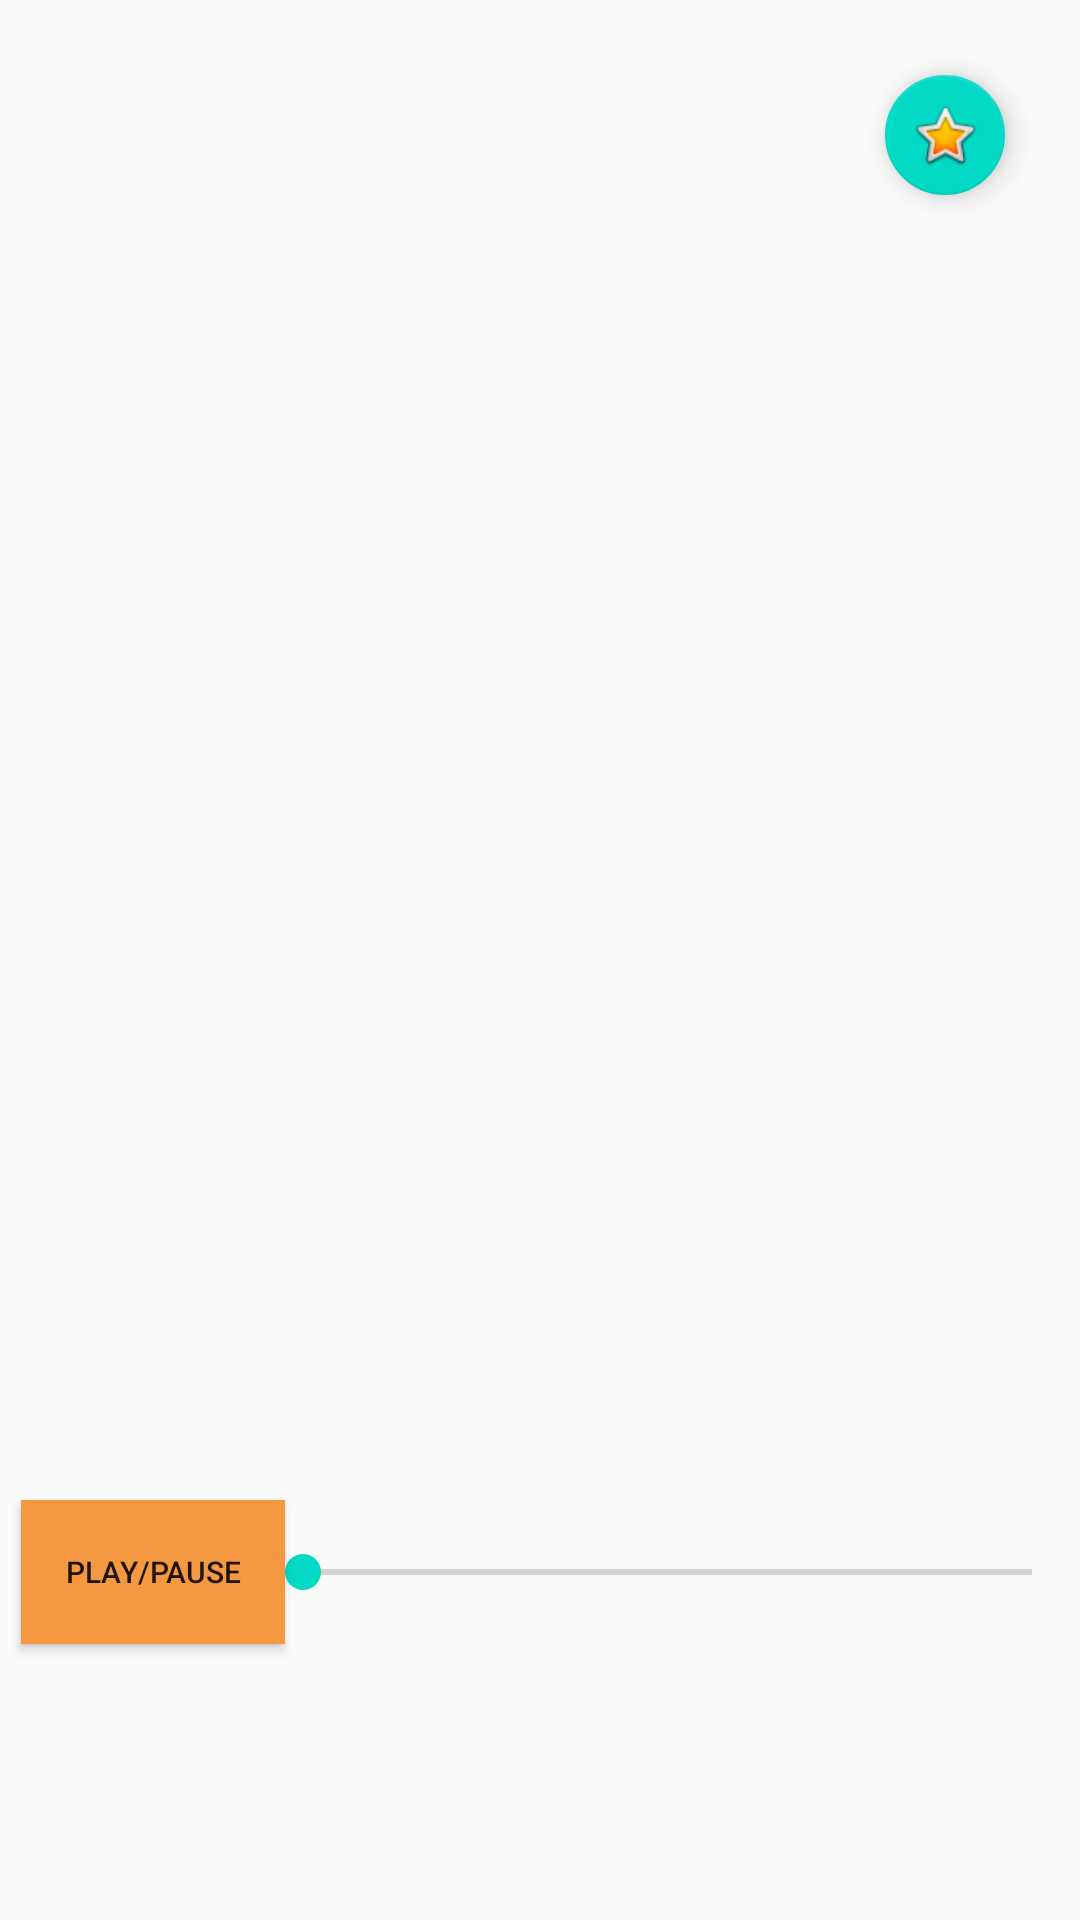

Icons on this 1080w x 1920h Android screen, each with the point to tap as (x,y):
star on: (945,135)
